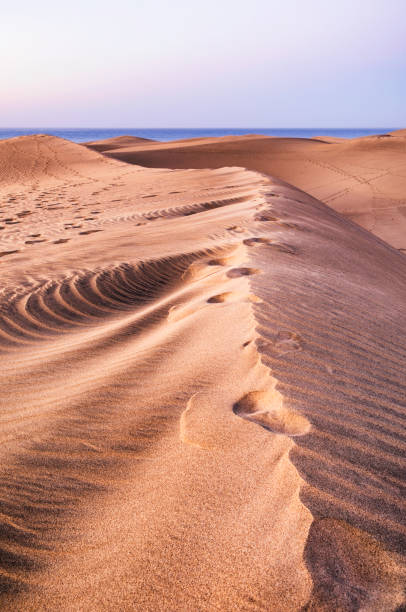human_footprint: (233, 389, 310, 435), (207, 291, 261, 303), (274, 330, 302, 353), (226, 267, 260, 277), (243, 237, 271, 246), (79, 229, 102, 234), (0, 250, 19, 256), (53, 238, 68, 243)
